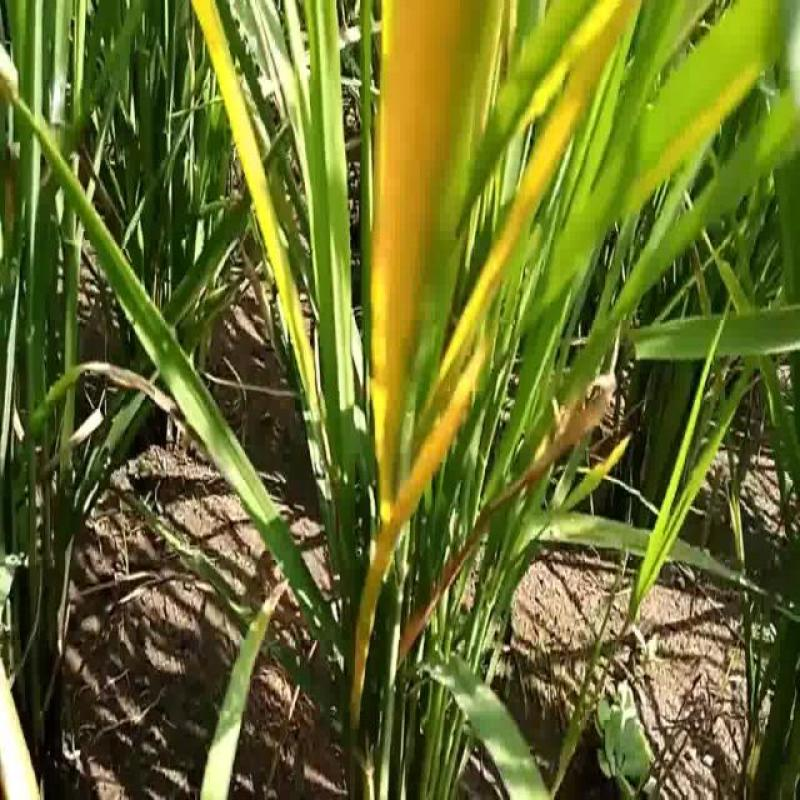Rice Tungro: (419, 8, 639, 438), (369, 1, 504, 459), (190, 4, 308, 366)
